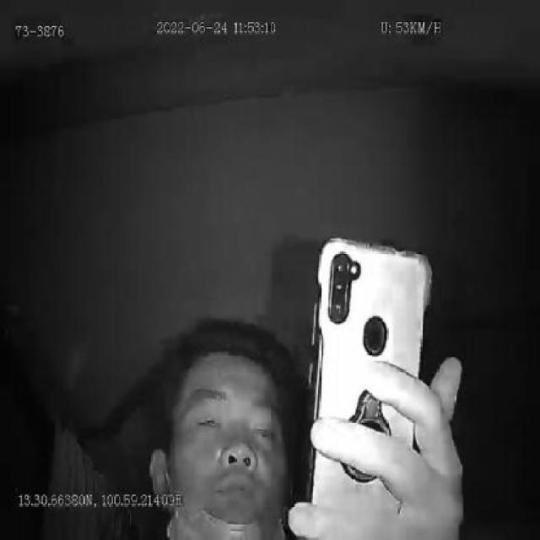phone: (303, 229, 434, 540)
